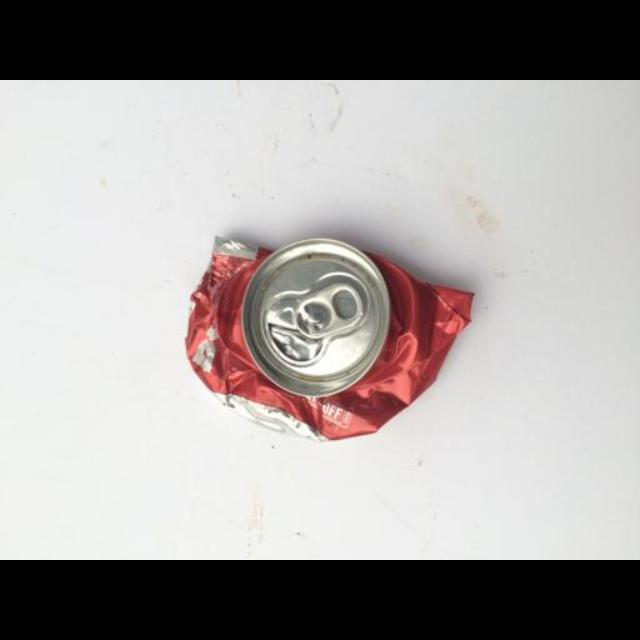aba de lata: (293, 273, 367, 345)
lata: (182, 226, 476, 444)
